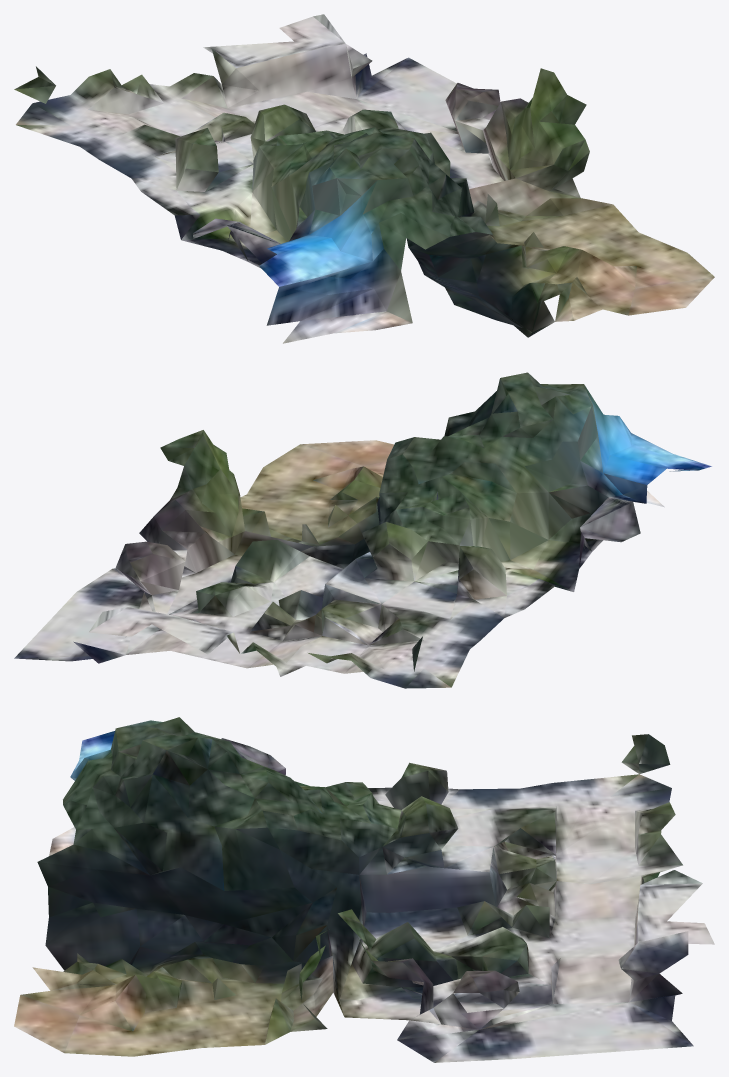
The model's file is Tile_+000_+004.glb.
3 renders of one model, top to bottom at view 1: azimuth 30°, elevation 25°; view 2: azimuth 150°, elevation 25°; view 3: azimuth 270°, elevation 25°, orthographic. The views are drawn at different scales.
Visible parts, largest first — view 1: rtc; view 2: rtc; view 3: rtc.
Boxes of the visible parts, <box> form: rtc: <box>14,14,714,343</box>; rtc: <box>14,372,711,688</box>; rtc: <box>14,717,714,1062</box>.
Bounding box in the file's own units: 48.12 × 19.22 × 61.67.
1 material, 1 textured.
